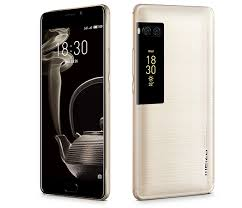meizu: (130, 1, 219, 203), (37, 1, 112, 205)
